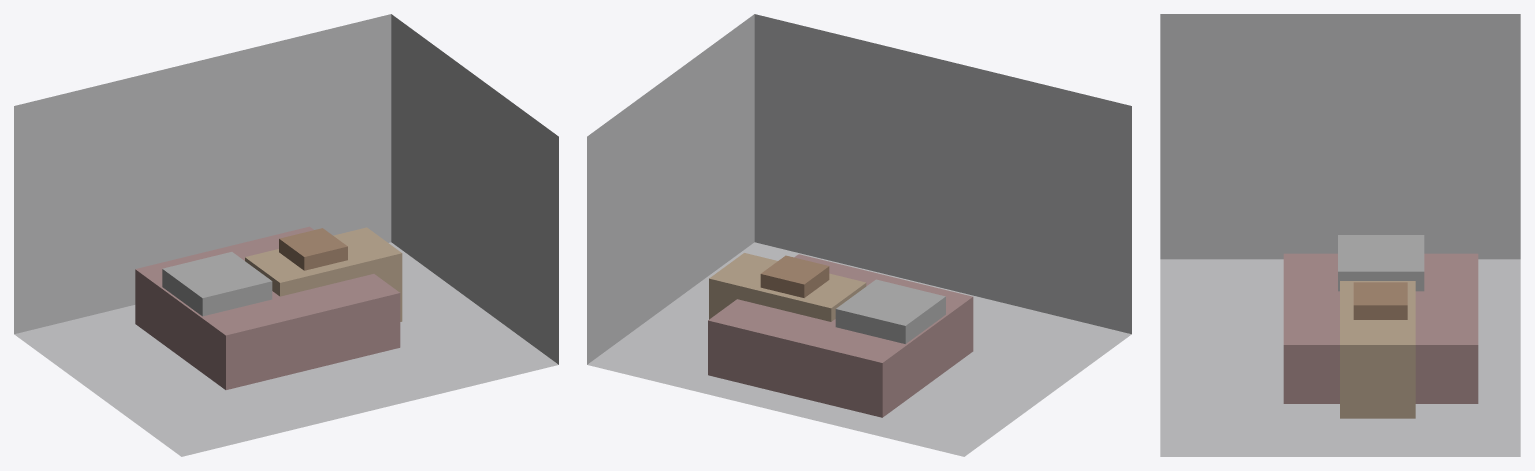
Rendered from current_layout.glb.
The picture shows the model from 3 angles, left to right: view 1: azimuth 30°, elevation 25°; view 2: azimuth 150°, elevation 25°; view 3: azimuth 270°, elevation 25°; orthographic projection. The views are drawn at different scales.
Parts seen in each view (by area): view 1: room, bed, desk, dustbin, chair; view 2: room, bed, desk, dustbin, chair; view 3: room, bed, desk, dustbin, chair.
Part boxes in pixels (<box>): room: <box>14,14,558,456</box>; bed: <box>135,226,400,389</box>; desk: <box>245,227,402,321</box>; dustbin: <box>162,252,272,316</box>; chair: <box>279,228,347,270</box>; room: <box>587,14,1131,456</box>; bed: <box>708,254,973,417</box>; desk: <box>709,253,866,321</box>; dustbin: <box>835,279,945,343</box>; chair: <box>760,255,829,297</box>; room: <box>1160,14,1520,456</box>; bed: <box>1283,253,1478,403</box>; desk: <box>1340,281,1415,418</box>; dustbin: <box>1338,235,1424,291</box>; chair: <box>1353,282,1407,319</box>.
Bounding box in the file's own units: 4.32 × 2.5 × 3.33.
